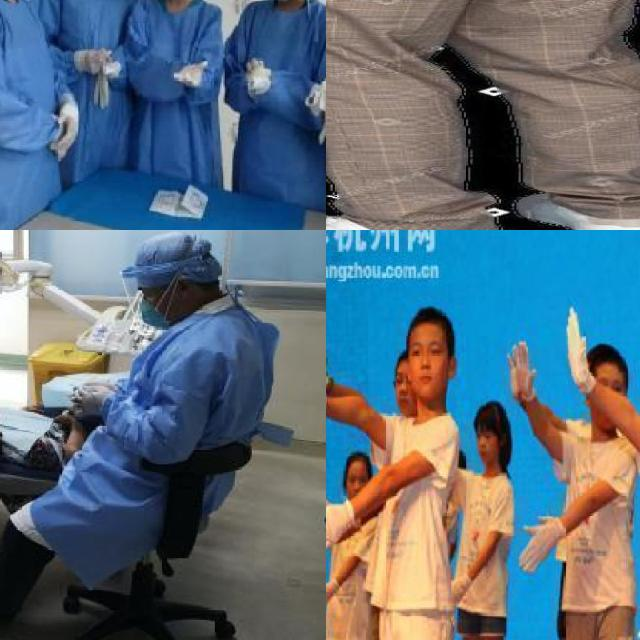face_mask: (140, 274, 180, 330)
face_nomask: (407, 332, 454, 401)
hand_glove: (562, 306, 596, 398), (518, 518, 554, 575), (506, 338, 536, 400), (49, 103, 83, 157), (72, 380, 112, 415), (172, 58, 211, 91), (80, 44, 112, 78), (326, 501, 346, 555), (243, 56, 269, 82), (326, 578, 334, 612)
hand_noglove: (56, 412, 75, 424), (21, 406, 44, 414)
head_nohelmet: (133, 234, 214, 281), (474, 396, 508, 431), (411, 307, 448, 333), (339, 454, 373, 478)
person: (26, 233, 270, 620), (326, 0, 640, 230), (326, 307, 463, 640), (545, 336, 640, 640), (573, 298, 640, 640), (234, 0, 326, 213), (0, 0, 80, 230), (130, 0, 221, 181), (446, 415, 517, 640), (58, 0, 143, 160)
